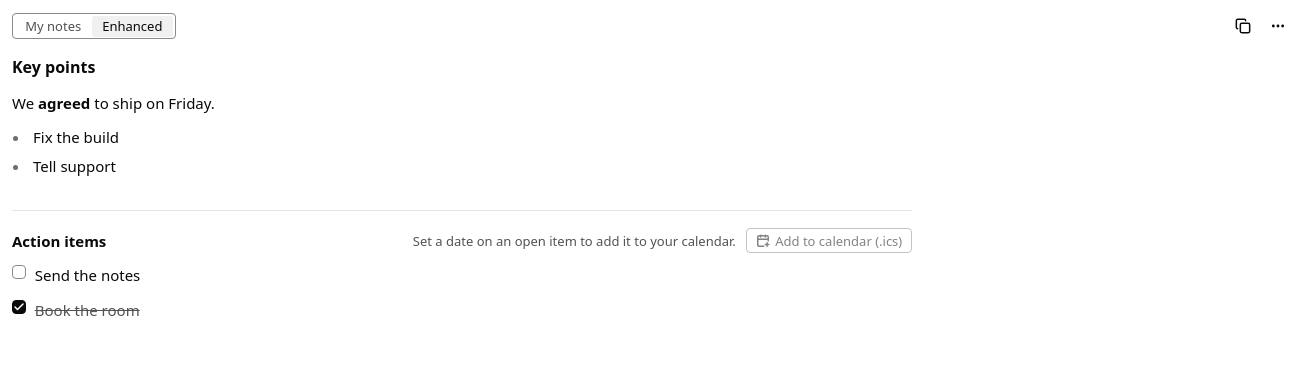
Test case: SummaryTab action items › puts the box back and says why when the save fails
Click the checkbox named "Send the notes" next to "Send the notes". click: (19, 272)
box: [12,265,26,279]
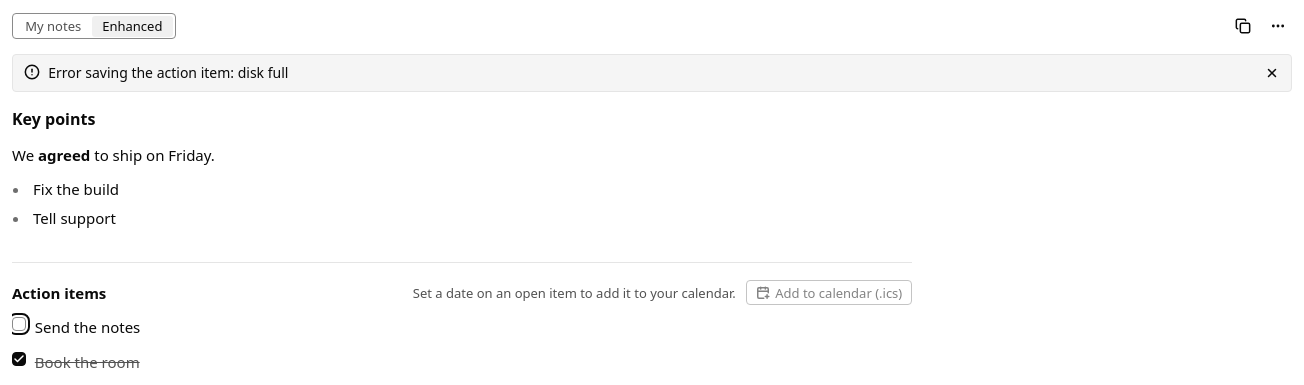
Expected: the checkbox named "Send the notes" next to "Send the notes" is not checked, [12,317,26,331]
Expected: the text "Error saving the action item: disk full" is shown, [48,63,288,82]
Click the button named "Close". click: (1272, 73)
box: [1260,60,1284,85]
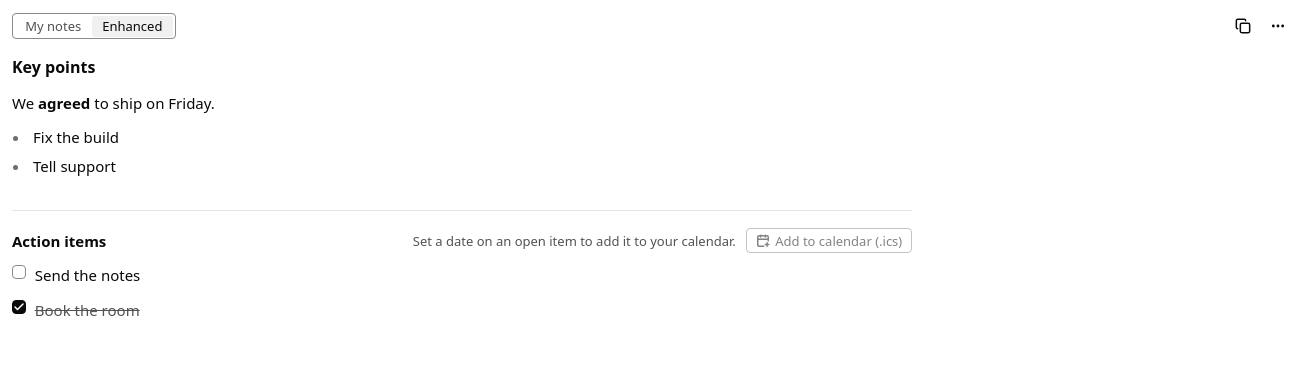
Expected: the text "disk full" is gone
